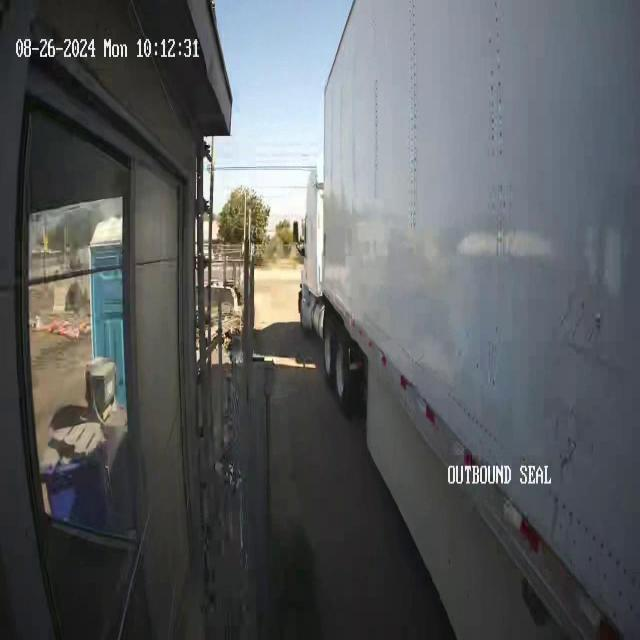TRUCK_CONTAINER: (293, 1, 639, 637)
